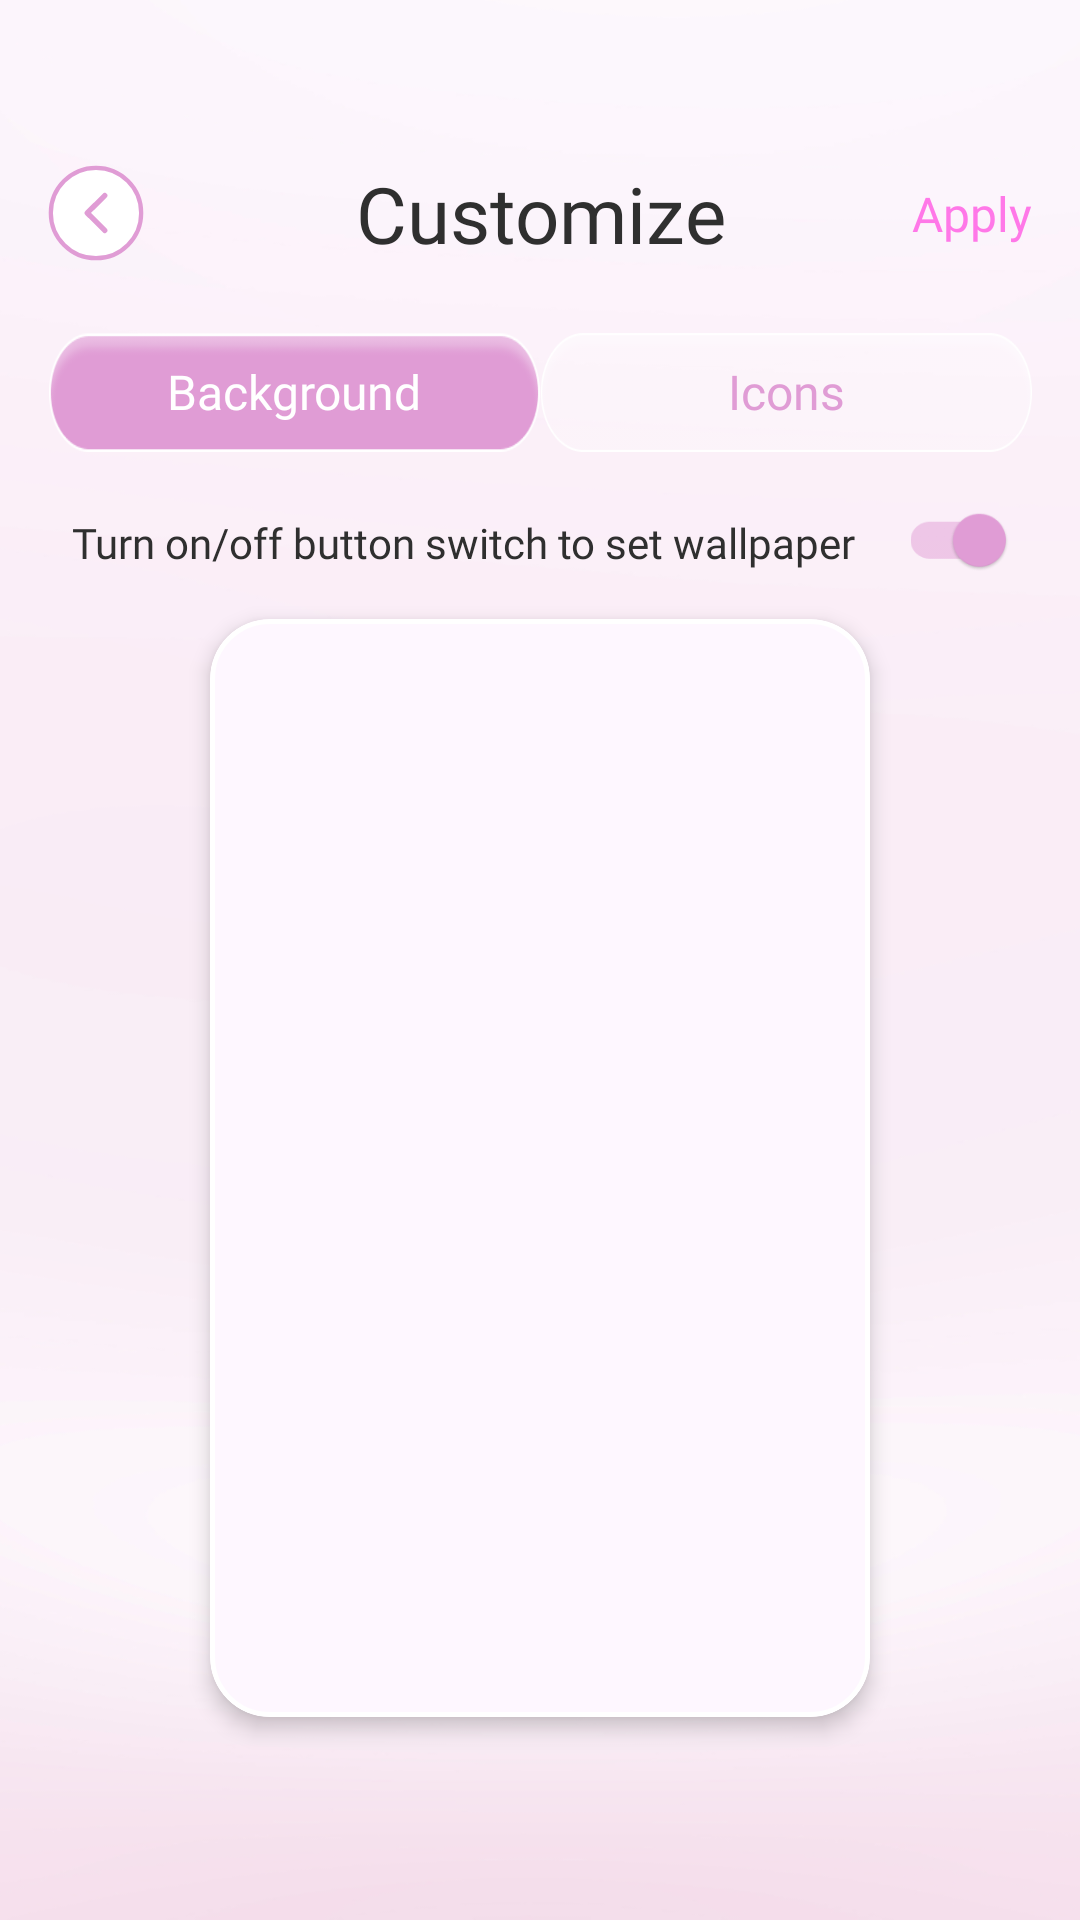

Icons on this 1080*1920 Android screen, each with the point to tap as point (x, y):
imv back: point (96, 213)
swith true per: point (958, 541)
